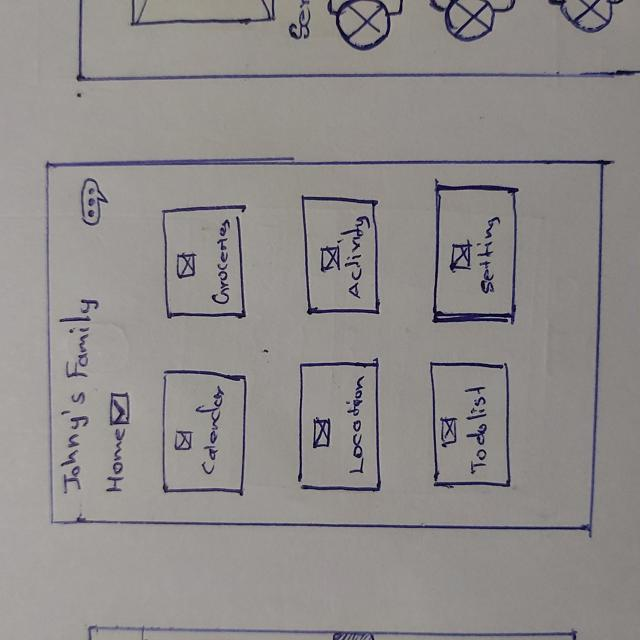ActionButton: (79, 176, 105, 228)
ComboBox: (108, 389, 132, 495)
Image: (310, 417, 335, 448), (451, 243, 473, 271), (175, 252, 197, 277), (320, 247, 341, 272), (441, 415, 457, 446), (175, 429, 192, 452)
Layout: (434, 183, 518, 323), (429, 360, 515, 488), (299, 362, 382, 492), (162, 369, 246, 495), (301, 194, 385, 318), (162, 206, 247, 318)
MainLayout: (44, 160, 603, 533)
TextView: (57, 297, 91, 495), (462, 383, 495, 474), (201, 383, 223, 476), (349, 375, 369, 474), (346, 215, 366, 295), (216, 217, 232, 304), (480, 217, 498, 293)
